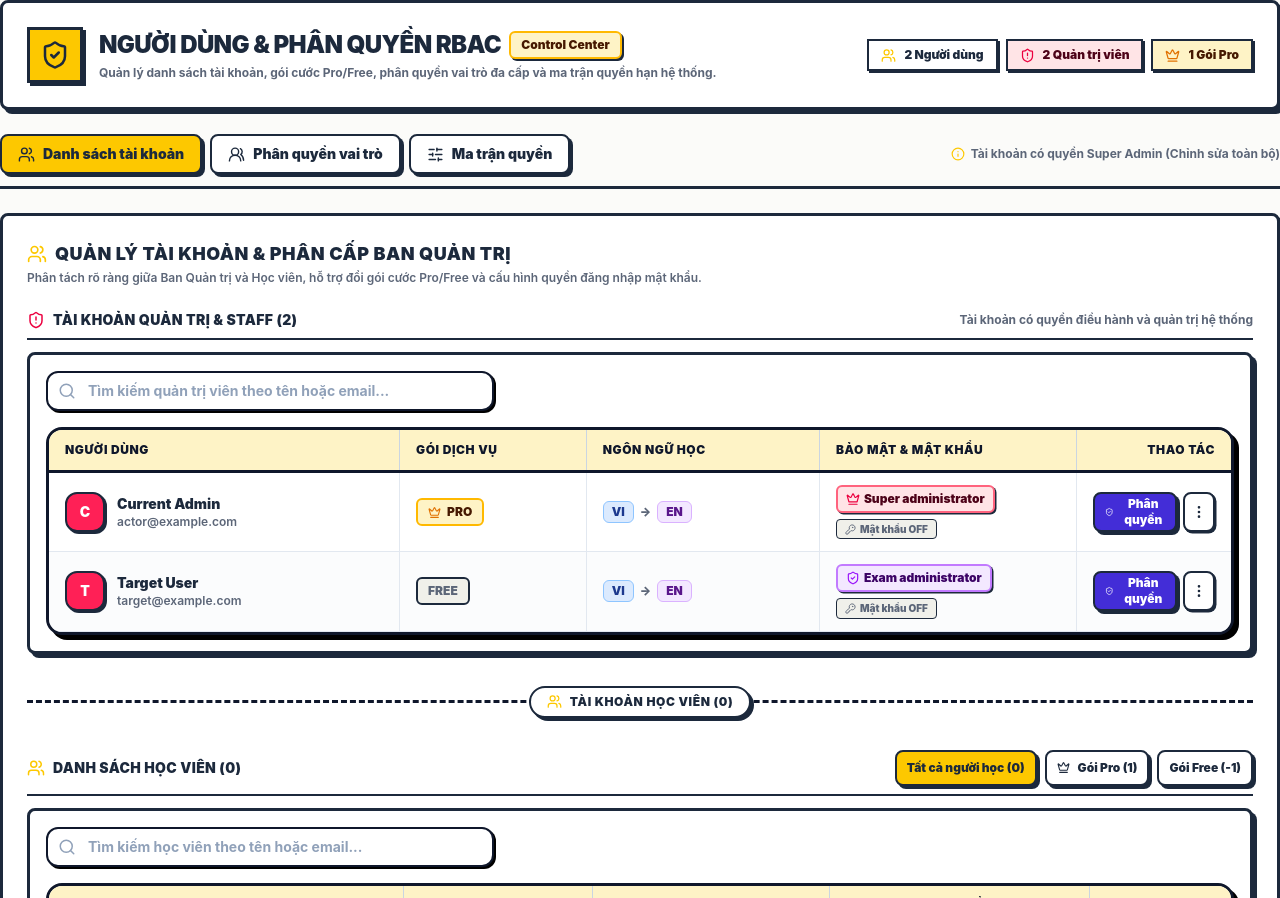
Test: AdminRolesPage › keeps matrix edits as drafts until an administrator saves and confirms them in Tab 3
Click the button "Ma trận quyền": (490, 154) [409, 134, 570, 174]
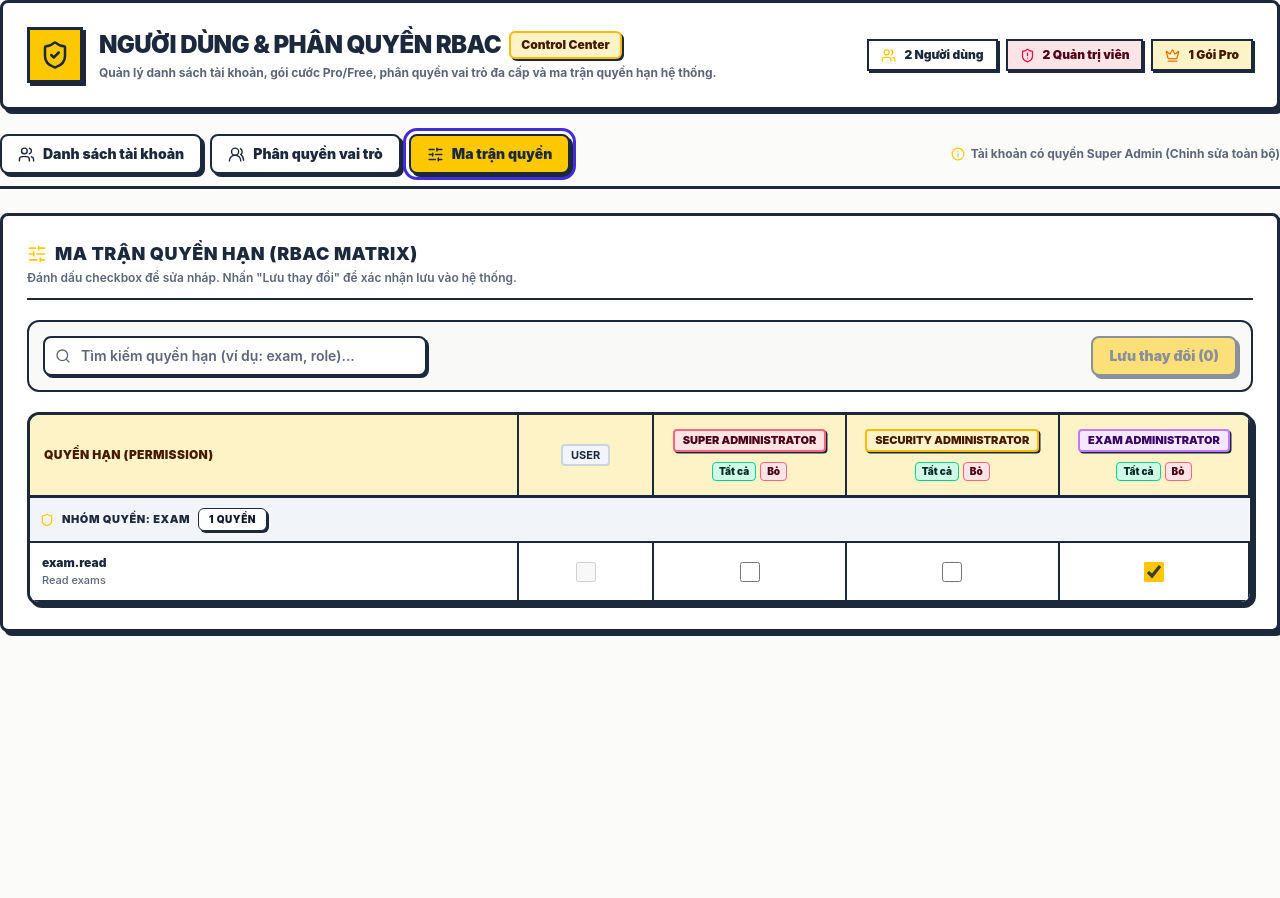
Result: the checkbox named "exam.read User" is disabled at [576, 562, 596, 582]
Click the checkbox named "exam.read Security administrator": (952, 572) [942, 562, 962, 582]
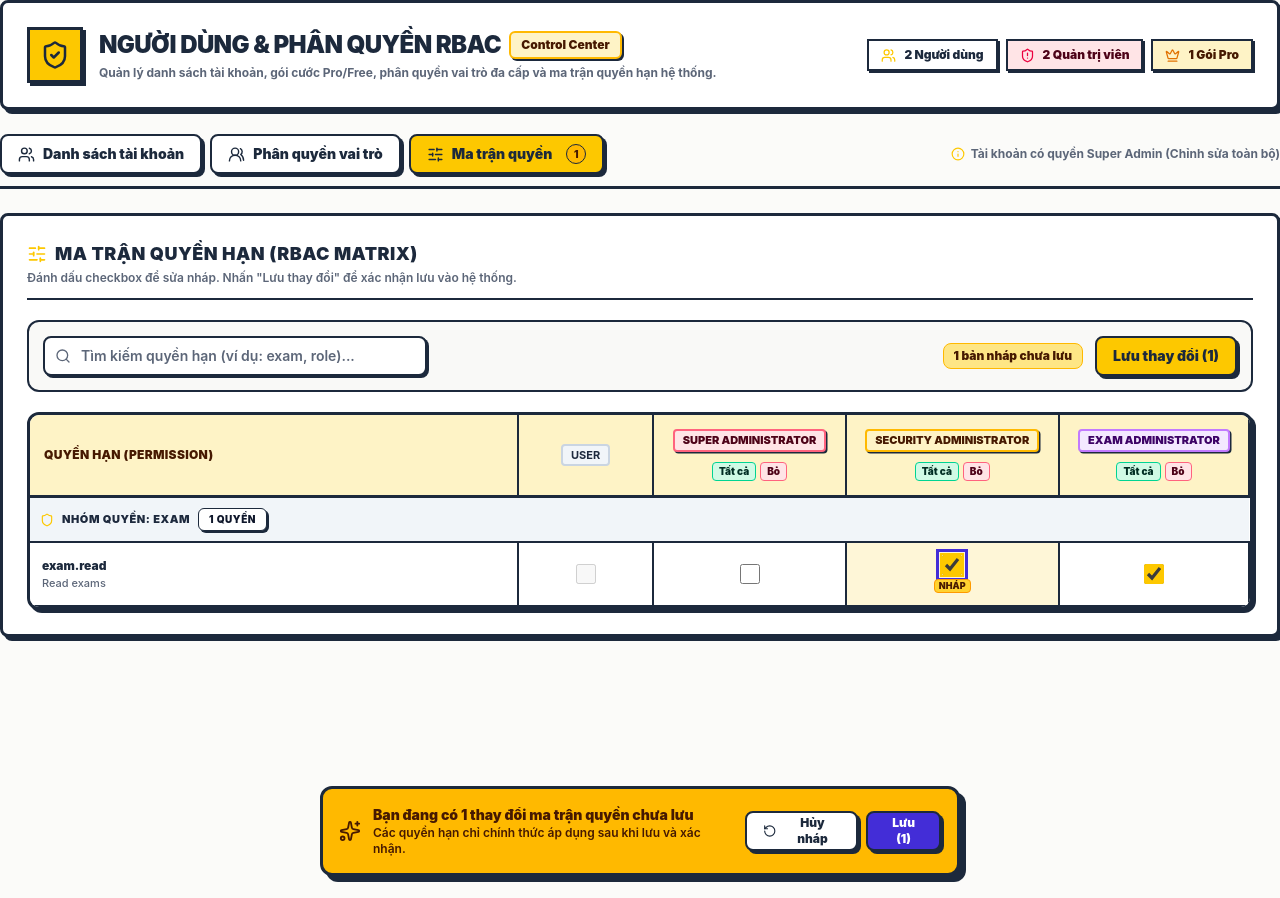
Click the button "Lưu thay đổi (1)": (1166, 356) [1095, 336, 1237, 376]
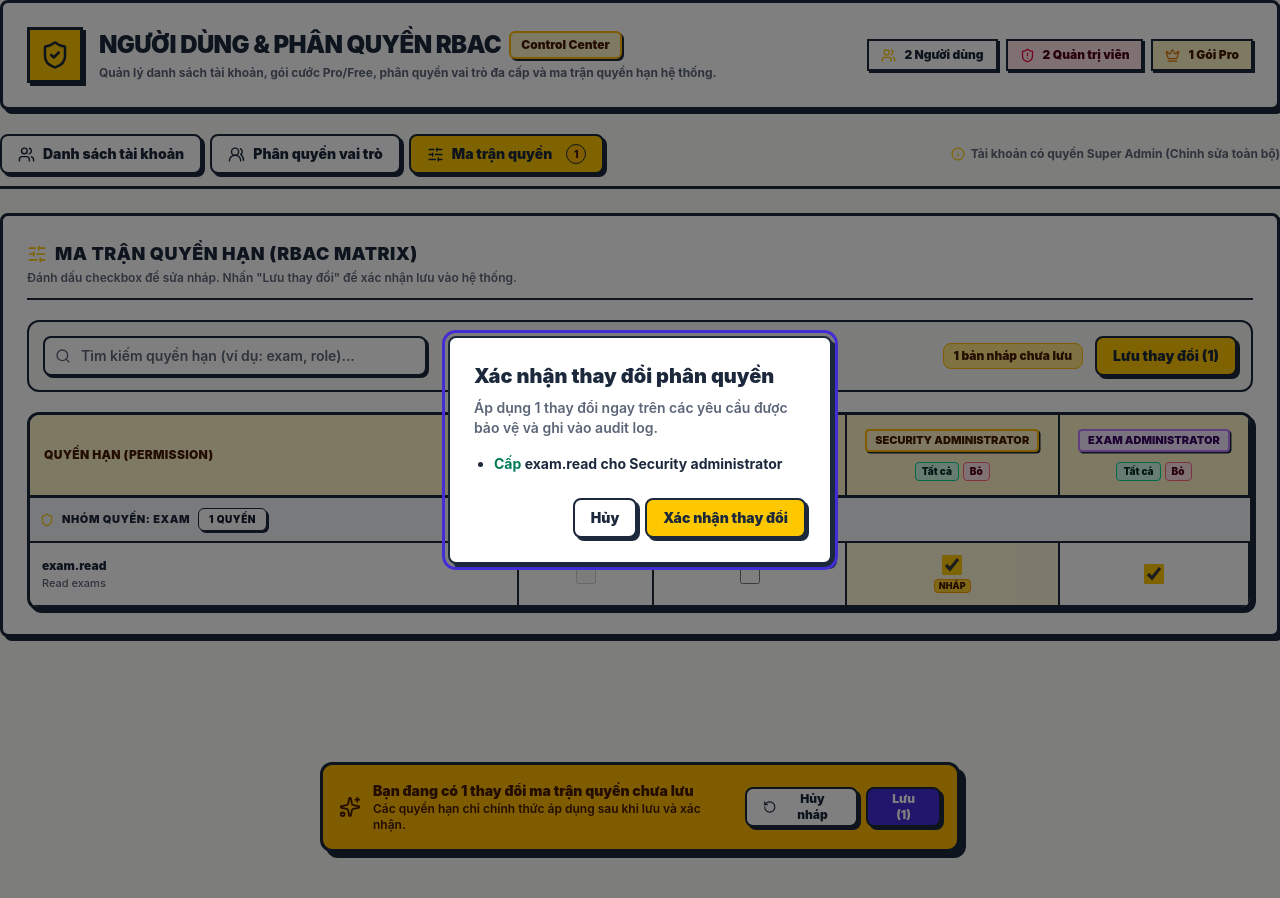
Result: the dialog shows "exam.read" at [525, 455, 782, 472]
